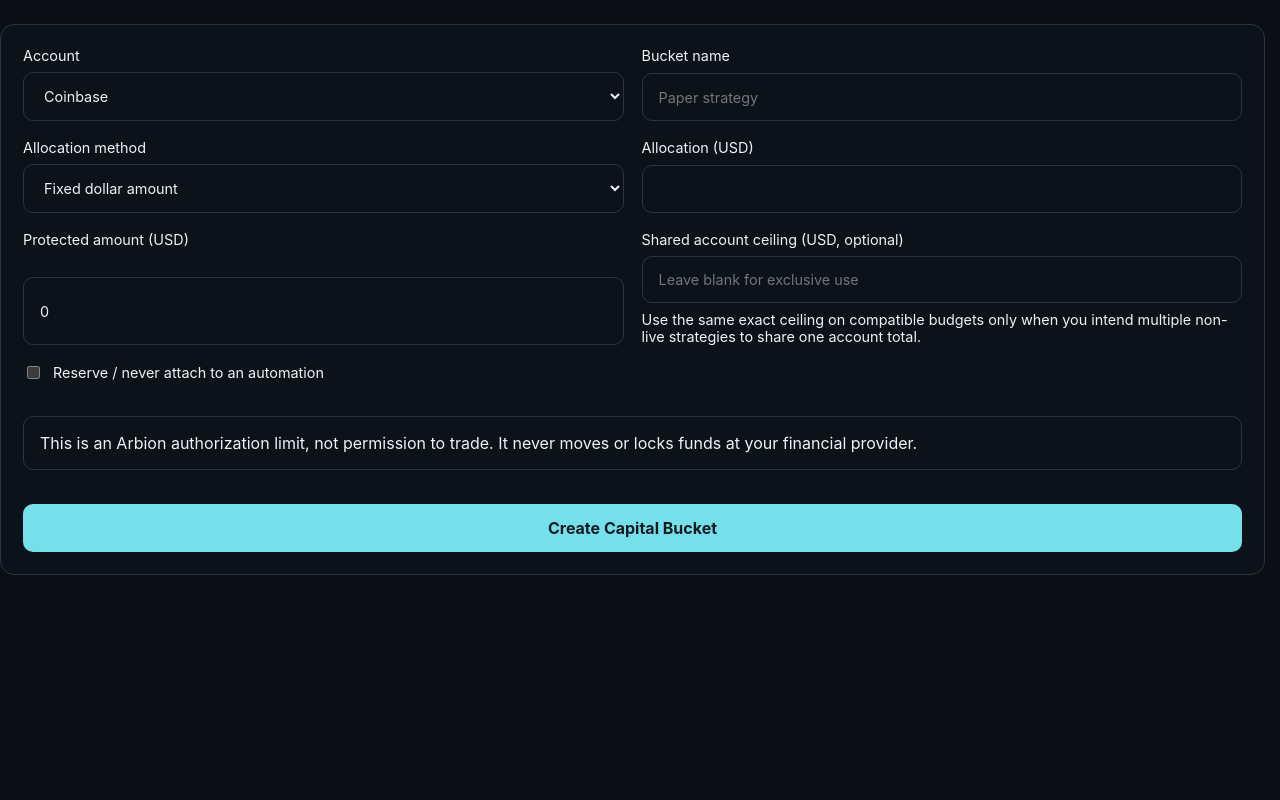
Test: CapitalBucketForm › does not send browser-coercible non-canonical capital values
This screenshot has width=1280, height=800.
Type "Invalid allocation" into the field labelled "Bucket name" at (942, 97), box [642,73,1242,121]
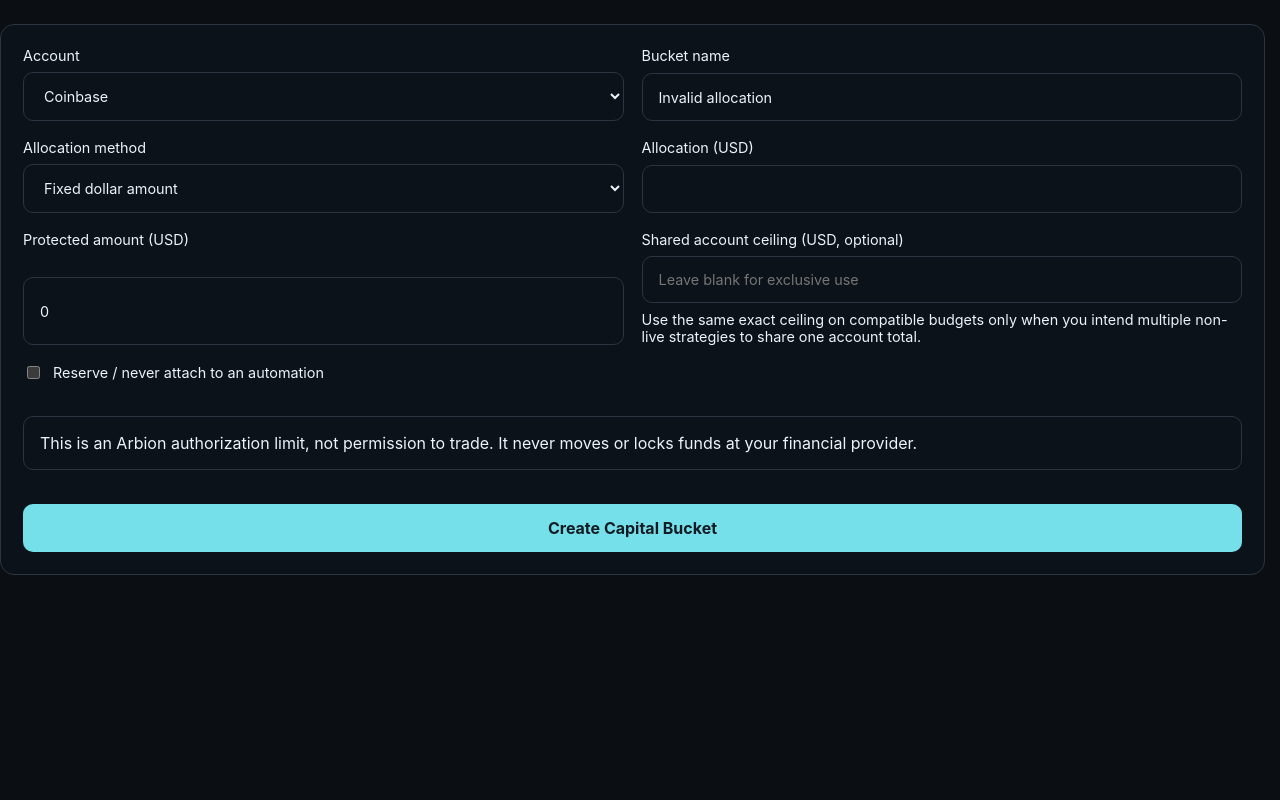
Type "1e3" into the field labelled "Allocation (USD)" at (942, 189), box [642,165,1242,213]
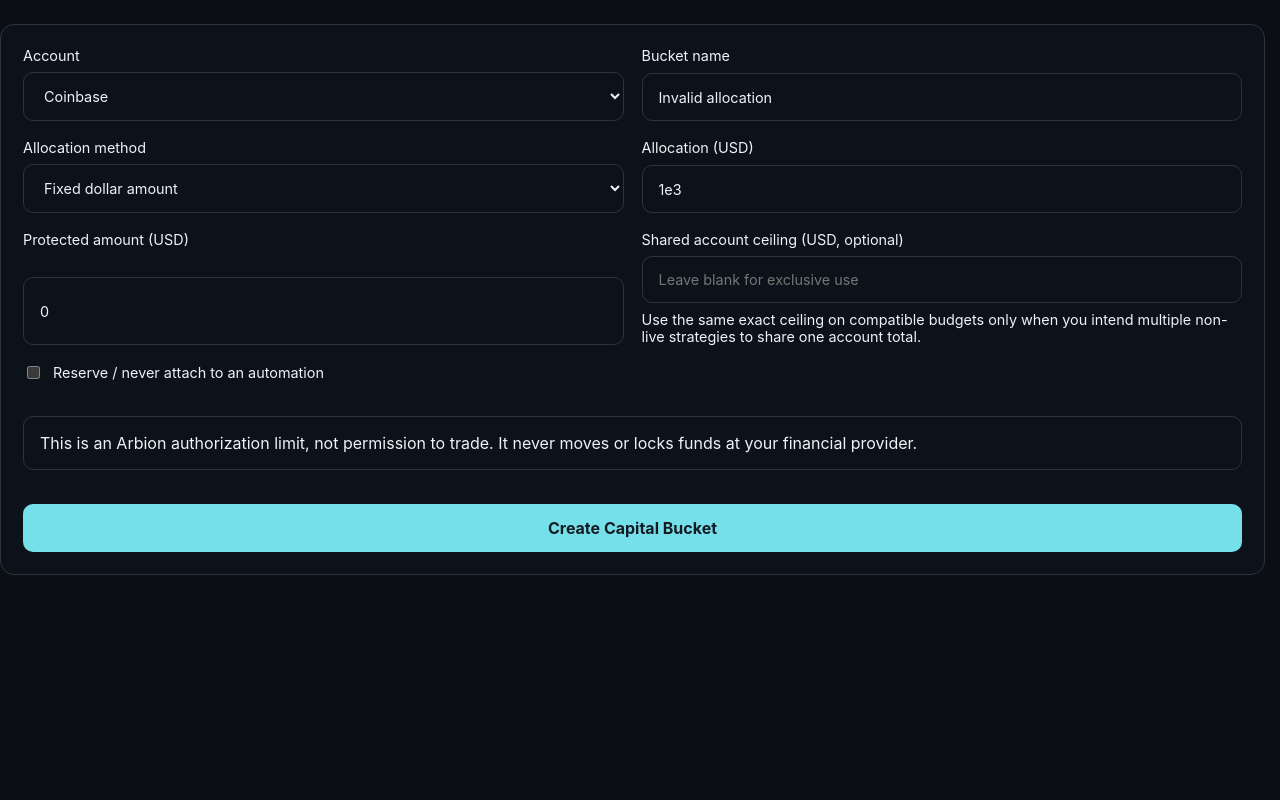
Click the button "Create Capital Bucket" at (632, 528), box [23,504,1242,552]
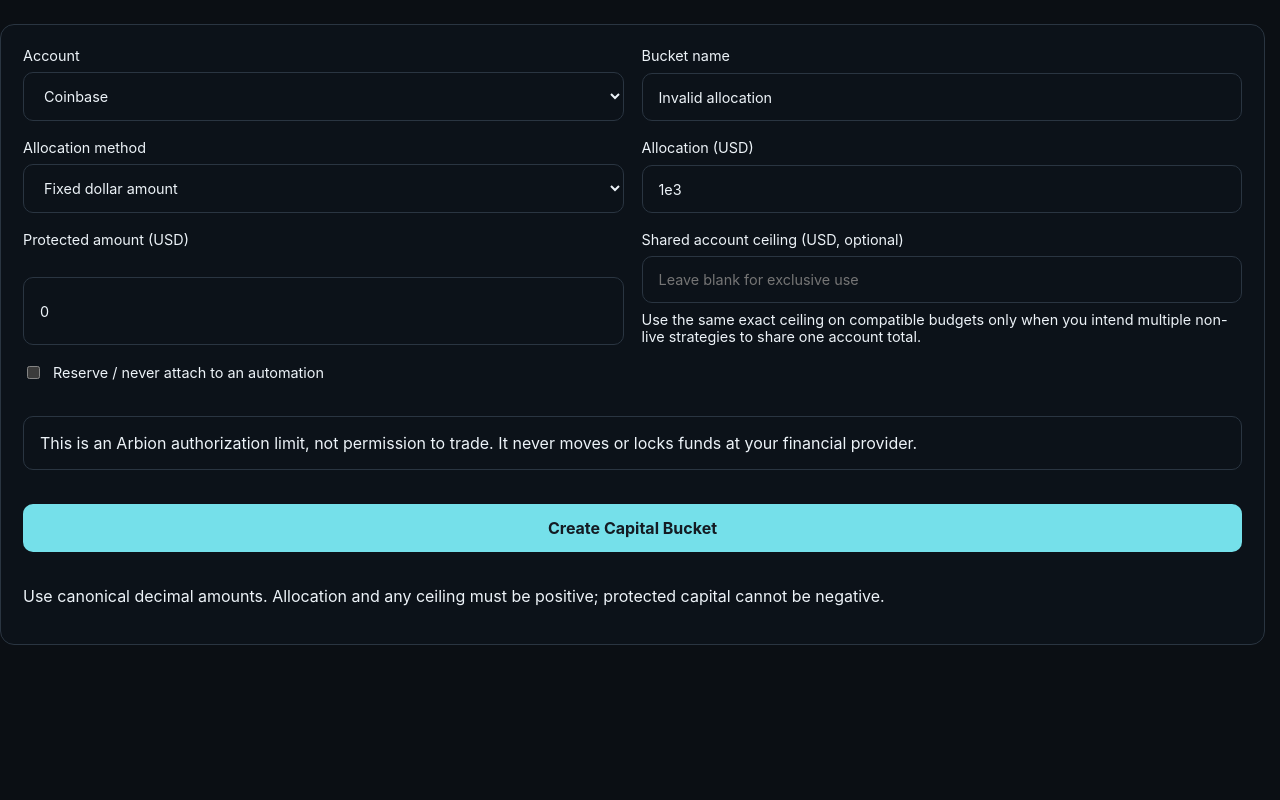
expect the text "Use canonical decimal amounts" is shown: met, box [23,586,885,606]
